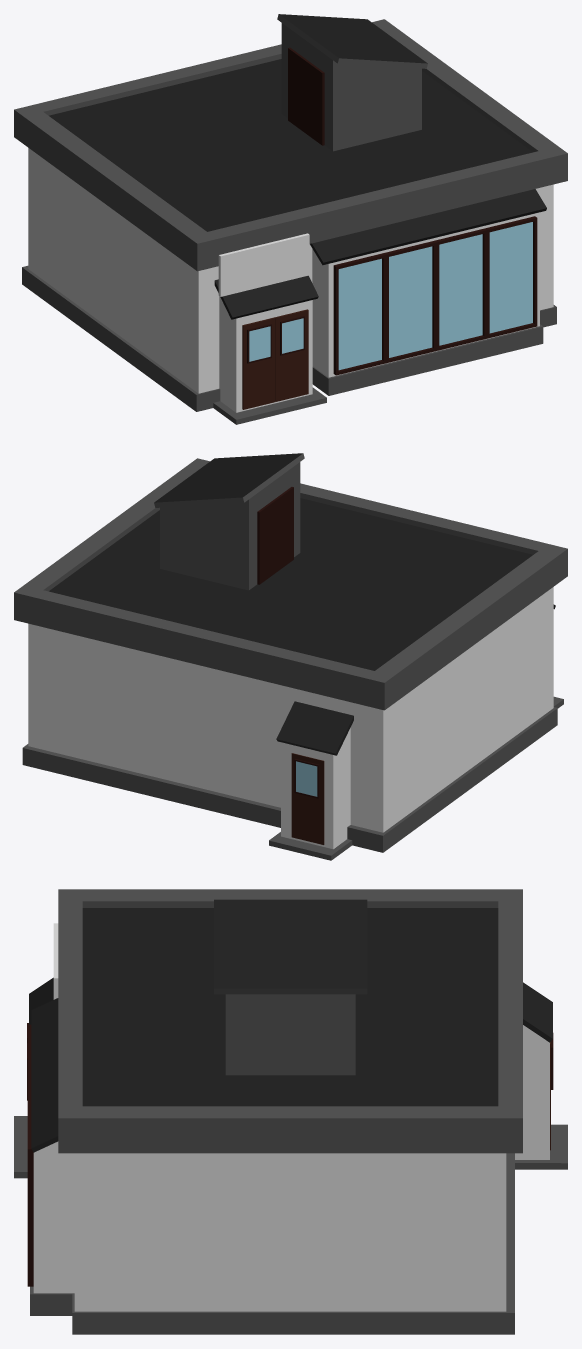
Rendered from BeerPlace3.dae.
3 renders of one model, top to bottom at view 1: azimuth 30°, elevation 25°; view 2: azimuth 150°, elevation 25°; view 3: azimuth 270°, elevation 25°, orthographic. The views are drawn at different scales.
Visible parts, largest first — view 1: BeerPlace3; view 2: BeerPlace3; view 3: BeerPlace3.
Boxes of the visible parts, x1,y1,x2,y2 form: BeerPlace3: (14, 14, 567, 424); BeerPlace3: (14, 453, 567, 860); BeerPlace3: (14, 889, 567, 1334).
Size of the model in its own units: 5.62 by 5.75 by 3.84.
